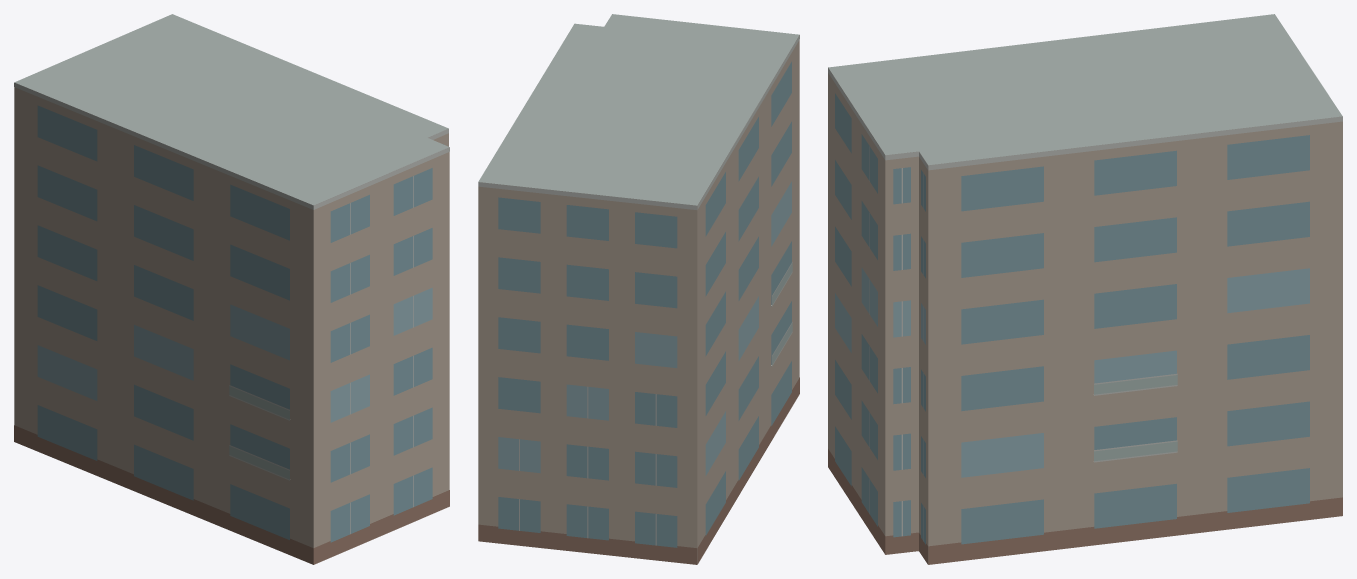
The model's file is survey-upis-32958469.glb.
3 views of the same model, side by side, from view 1: azimuth 30°, elevation 25°; view 2: azimuth 150°, elevation 25°; view 3: azimuth 270°, elevation 25° (orthographic). The views are drawn at different scales.
Visible parts, largest first — view 1: survey-upis-32958469.tmp; view 2: survey-upis-32958469.tmp; view 3: survey-upis-32958469.tmp.
Part boxes in pixels (left/top/right/bottom): survey-upis-32958469.tmp: left=14, top=14, right=449, bottom=564; survey-upis-32958469.tmp: left=478, top=14, right=799, bottom=564; survey-upis-32958469.tmp: left=828, top=14, right=1342, bottom=564.
Bounding box in the file's own units: 15.52 × 19.1 × 22.31.
